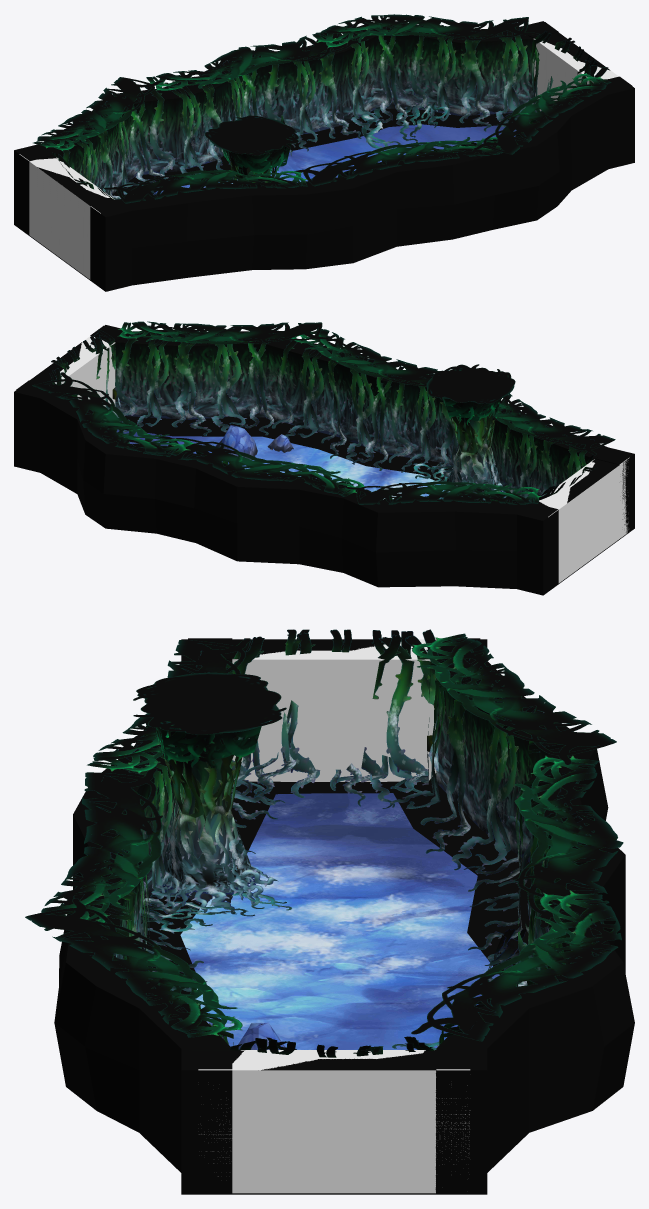
File: Dungeon_012_Road_002_Item2.fbx
The picture shows the model from 3 angles, top to bottom: view 1: azimuth 30°, elevation 25°; view 2: azimuth 150°, elevation 25°; view 3: azimuth 270°, elevation 25°; orthographic projection. The views are drawn at different scales.
Visible parts, largest first — view 1: Dan1, Dungeon_021_Tsuta_002, Dungeon_021_Tsuta_001, DoorWay_NavMask (1), Dan2, Dungeon_021_Object_010, Dan1_shadow, DoorWay_NavMask (×2), un_021_Door_002 (×2), Dungeon_021_Tsuta_003, un_021_Door_002_Object1; view 2: Dan1, Dungeon_021_Tsuta_002, Dungeon_021_Tsuta_001, DoorWay_NavMask (1), Dan1_shadow, Dan2, Dungeon_021_Object_010, Dungeon_021_Object_011, un_021_Door_002 (×2), DoorWay_NavMask (×2), un_021_Door_002_Object1, Dungeon_011_Object_012 (+1 smaller); view 3: Dan1, Dan2, Dungeon_021_Tsuta_002, DoorWay_NavMask (1), DoorWay_NavMask (×2), Dungeon_021_Tsuta_001, un_021_Door_002_Object1 (×2), Dungeon_021_Object_011, Dungeon_021_Object_010, Dan1_shadow, un_021_Door_002 (×2), Dungeon_021_Tsuta_003 (+2 smaller).
Boxes of the visible parts, x1=… form: Dan1: x1=14, y1=21, x2=634, y2=291; Dungeon_021_Tsuta_002: x1=33, y1=14, x2=611, y2=203; Dungeon_021_Tsuta_001: x1=53, y1=22, x2=587, y2=199; DoorWay_NavMask (1): x1=19, y1=154, x2=100, y2=279; Dan2: x1=153, y1=124, x2=516, y2=194; Dungeon_021_Object_010: x1=204, y1=115, x2=298, y2=175; Dan1_shadow: x1=112, y1=109, x2=536, y2=196; DoorWay_NavMask (×2): x1=30, y1=38, x2=618, y2=199; un_021_Door_002 (×2): x1=16, y1=22, x2=632, y2=280; Dungeon_021_Tsuta_003: x1=361, y1=102, x2=450, y2=155; un_021_Door_002_Object1: x1=505, y1=30, x2=608, y2=118; Dan1: x1=14, y1=325, x2=634, y2=595; Dungeon_021_Tsuta_002: x1=32, y1=321, x2=615, y2=504; Dungeon_021_Tsuta_001: x1=50, y1=328, x2=594, y2=503; DoorWay_NavMask (1): x1=547, y1=457, x2=629, y2=583; Dan1_shadow: x1=120, y1=416, x2=508, y2=501; Dan2: x1=116, y1=429, x2=443, y2=499; Dungeon_021_Object_010: x1=426, y1=364, x2=515, y2=425; Dungeon_021_Object_011: x1=440, y1=402, x2=507, y2=500; un_021_Door_002 (×2): x1=16, y1=325, x2=632, y2=583; DoorWay_NavMask (×2): x1=55, y1=336, x2=594, y2=509; un_021_Door_002_Object1: x1=49, y1=329, x2=129, y2=432; Dungeon_011_Object_012: x1=215, y1=425, x2=257, y2=460; Dan1: x1=54, y1=639, x2=634, y2=1194; Dan2: x1=180, y1=793, x2=499, y2=1049; Dungeon_021_Tsuta_002: x1=25, y1=633, x2=623, y2=1041; DoorWay_NavMask (1): x1=198, y1=1056, x2=470, y2=1193; DoorWay_NavMask (×2): x1=232, y1=639, x2=436, y2=1069; Dungeon_021_Tsuta_001: x1=87, y1=650, x2=596, y2=1045; un_021_Door_002_Object1 (×2): x1=229, y1=629, x2=446, y2=1057; Dungeon_021_Object_011: x1=152, y1=728, x2=278, y2=914; Dungeon_021_Object_010: x1=133, y1=672, x2=286, y2=769; Dan1_shadow: x1=141, y1=781, x2=531, y2=994; un_021_Door_002 (×2): x1=188, y1=638, x2=480, y2=1194; Dungeon_021_Tsuta_003: x1=141, y1=891, x2=439, y2=1049.
Size of what is drawn, in the model's own units: 15 by 3.03 by 9.14.
